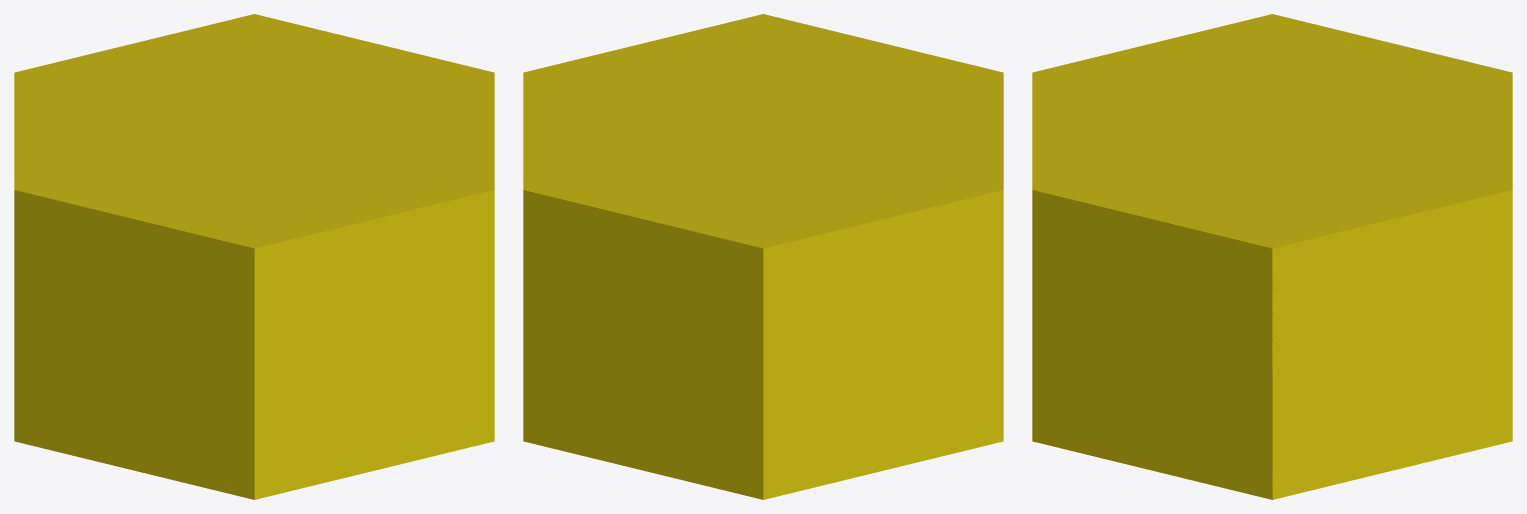
File: Item4.dae
The picture shows the model from 3 angles, left to right: view 1: azimuth 30°, elevation 25°; view 2: azimuth 150°, elevation 25°; view 3: azimuth 270°, elevation 25°; orthographic projection.
Visible parts, largest first — view 1: SketchUp (×2); view 2: SketchUp (×2); view 3: SketchUp (×2).
Boxes of the visible parts, x1,y1,x2,y2 form: SketchUp (×2): (14,14,494,499); SketchUp (×2): (523,14,1003,499); SketchUp (×2): (1032,14,1512,499).
Bounding box in the file's own units: 0.25 × 0.2165 × 0.125.
